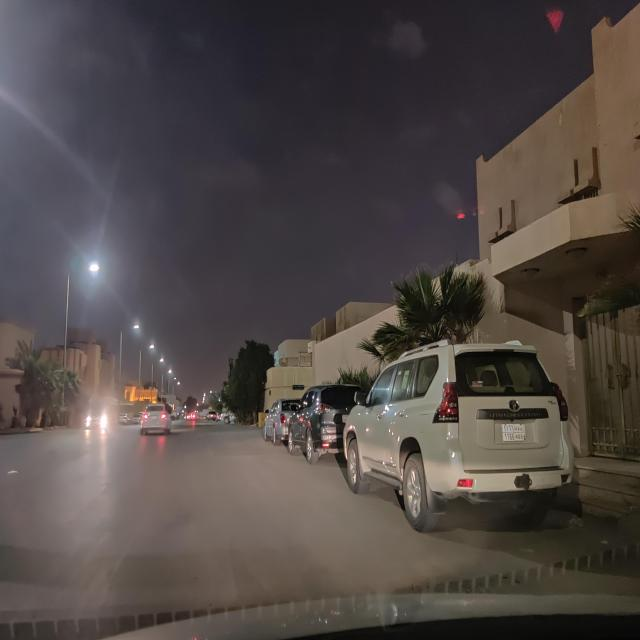license_plate: (501, 422, 526, 442), (342, 414, 351, 423)
